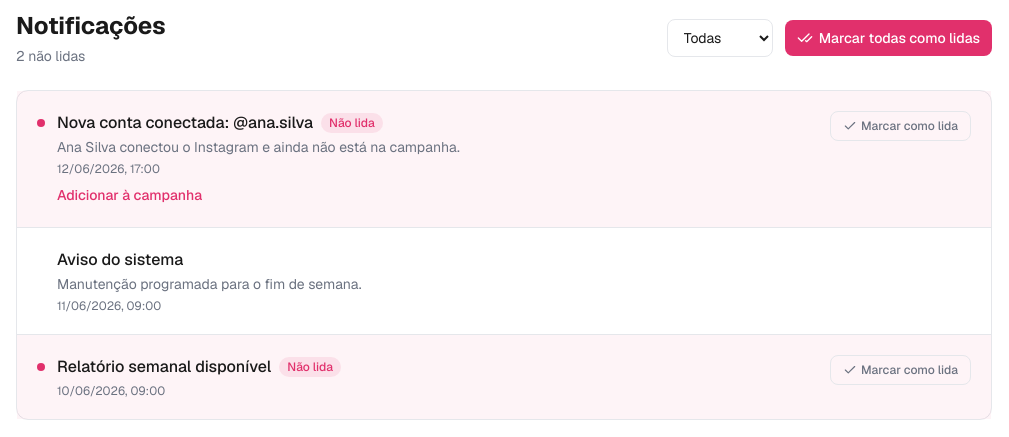
it: AdminNotifications › filter 'Não lidas' hides read notifications
The width and height of the screenshot is (1009, 437).
Check: the text "Aviso do sistema" is shown, box [57,248,183,272]
Step 1. Select "Não lidas" in the dropdown named "Filtrar notificações" → (720, 38), box [667,19,773,57]
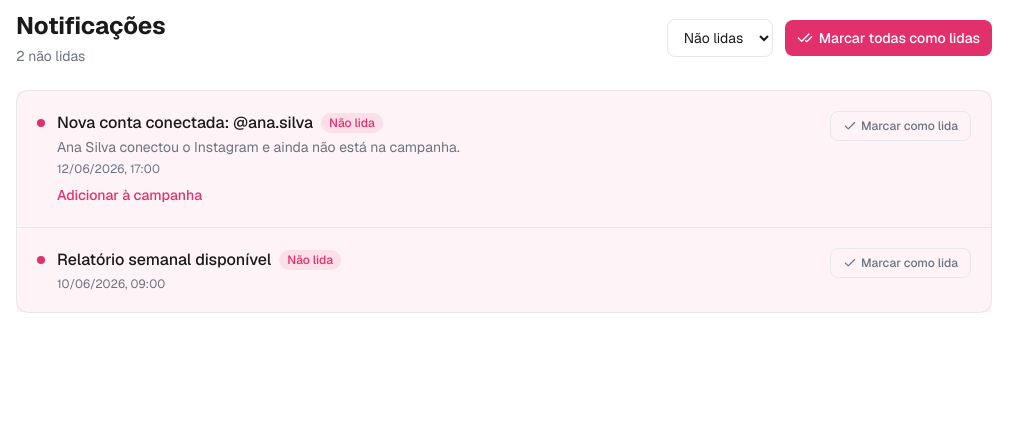
Check: the text "Nova conta conectada: @ana.silva" is shown, box [57,111,313,135]
Check: the text "Aviso do sistema" is gone
